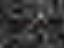nine: (39, 19, 45, 27)
seven: (25, 20, 31, 28)
two: (32, 19, 38, 27)
zero: (18, 20, 24, 28)
